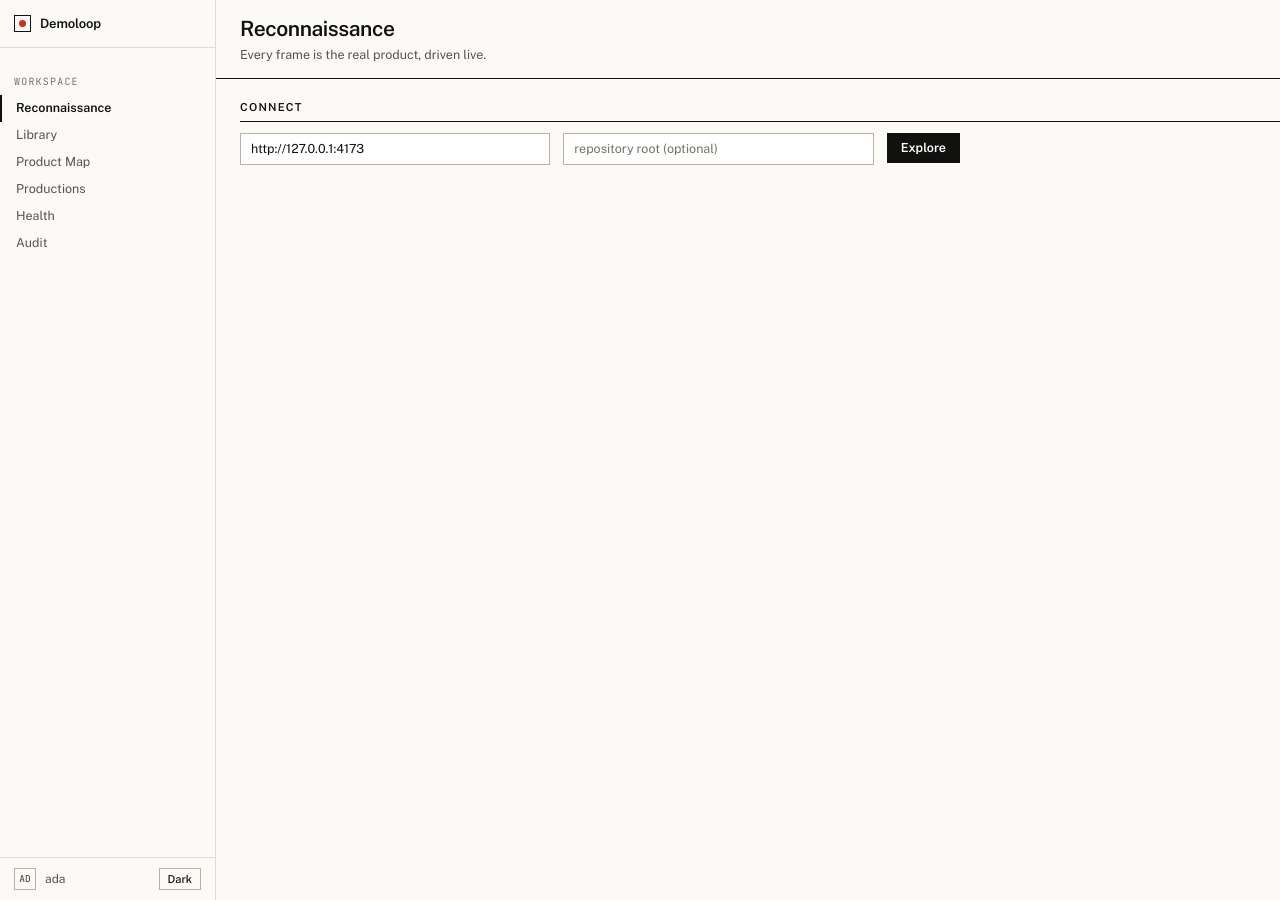
Test: drift names the scene and the target that moved
The image size is (1280, 900).
Click the button "Health": [35, 216] box [16,208,55,223]
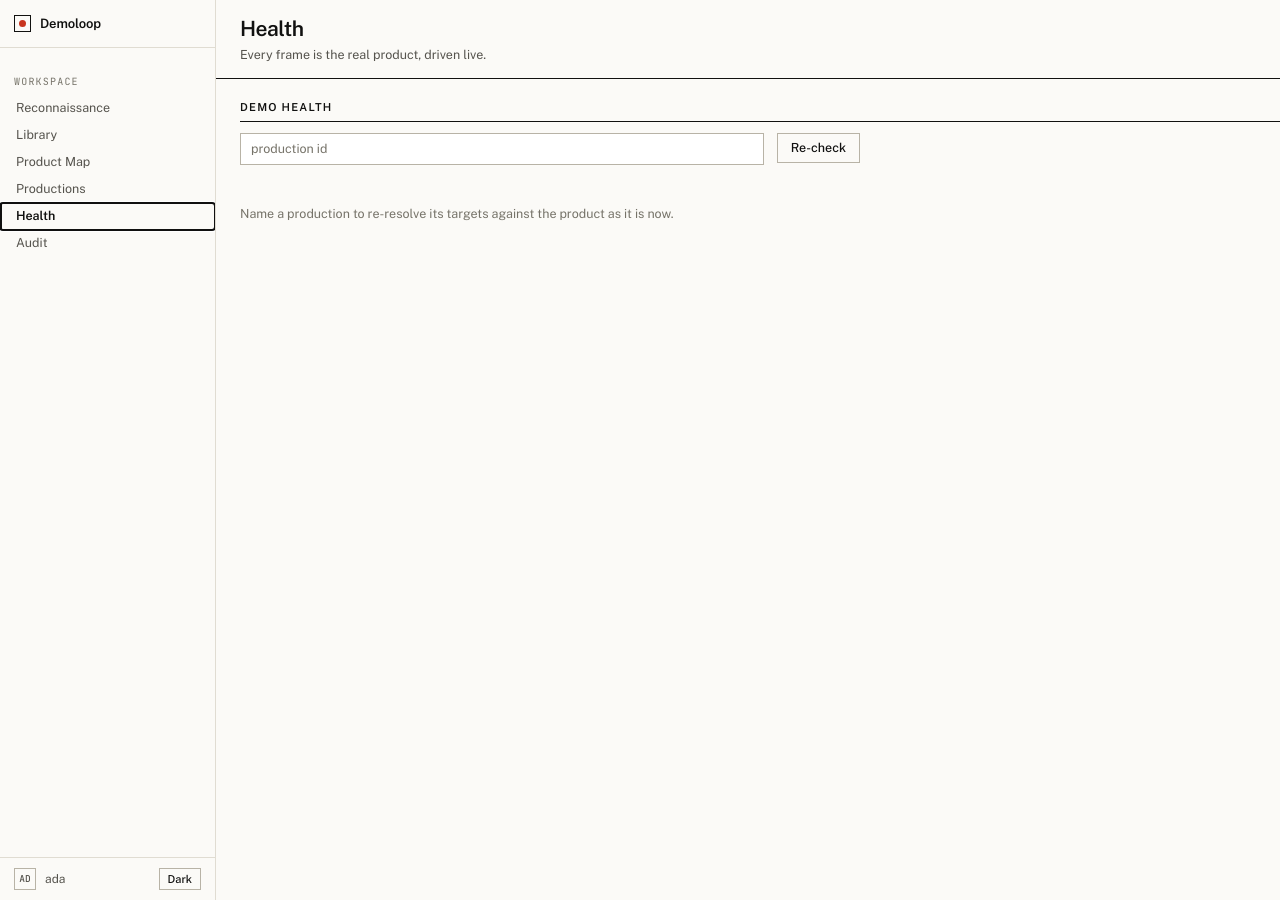
In the field labelled "production": [502, 149] box [240,133,764,165], type "p1"
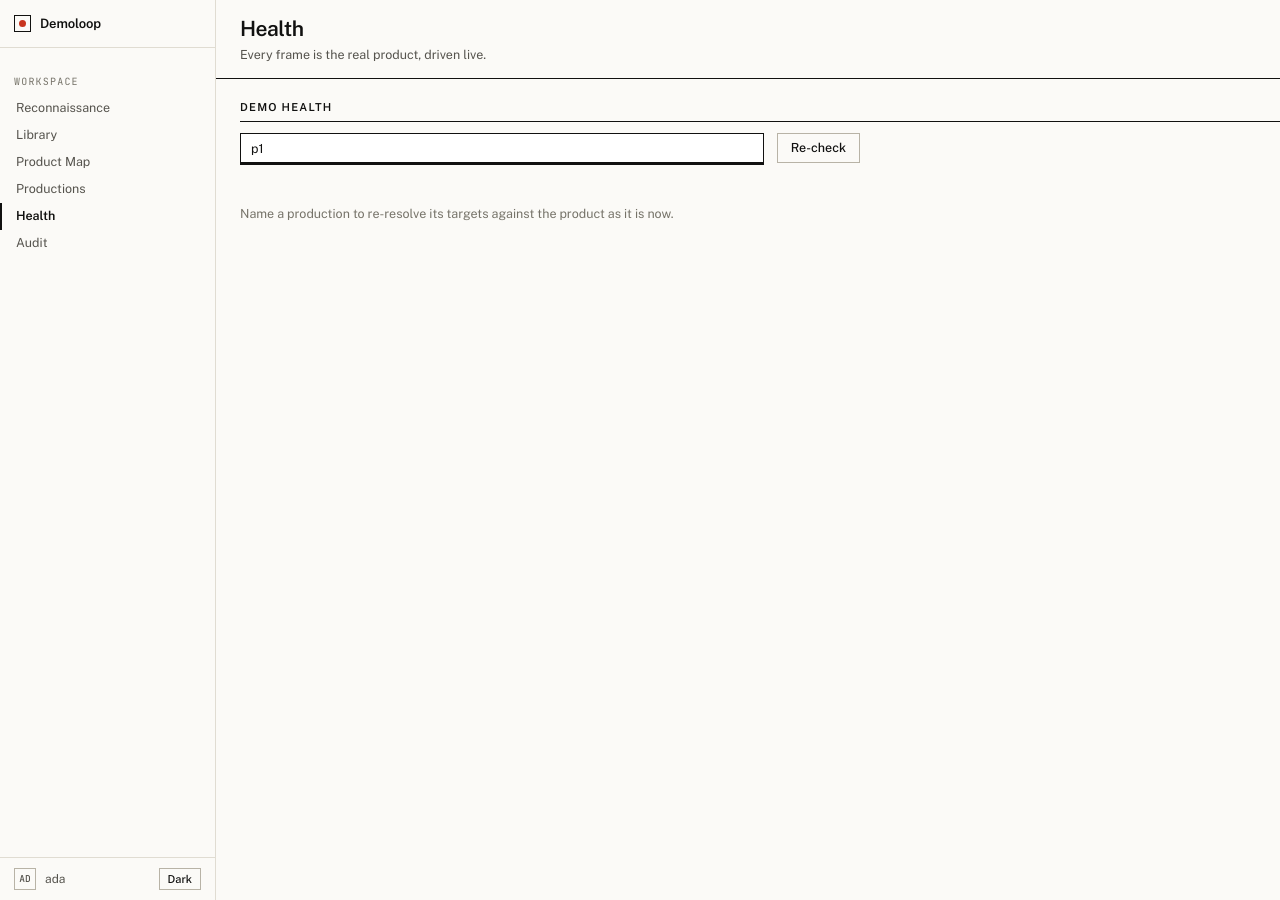
Click the button "Re-check": [818, 148] box [777,133,860,163]
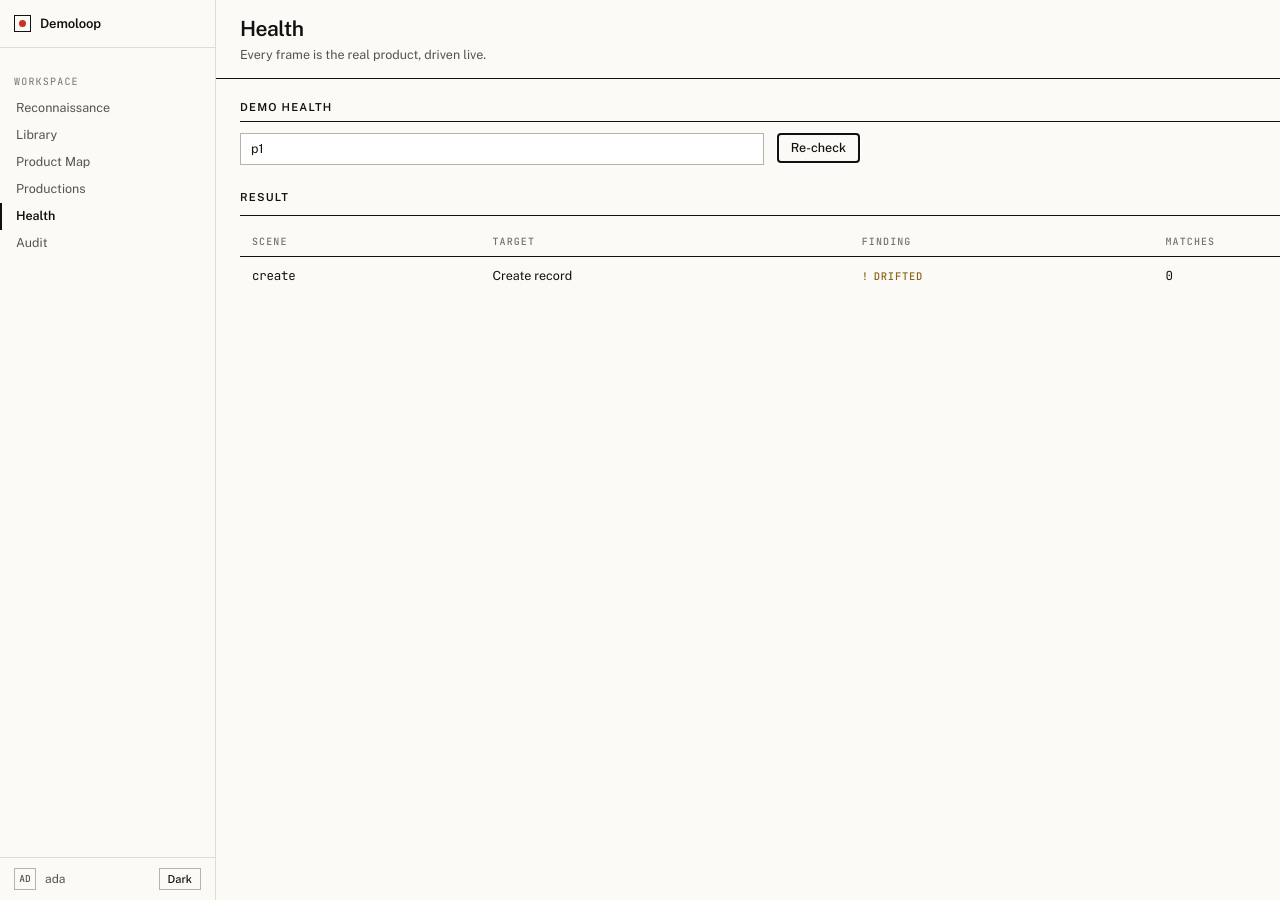
Expected: the text "Create record" is shown, [480,256,850,296]
Expected: the text "create" is shown, [240,256,480,296]
